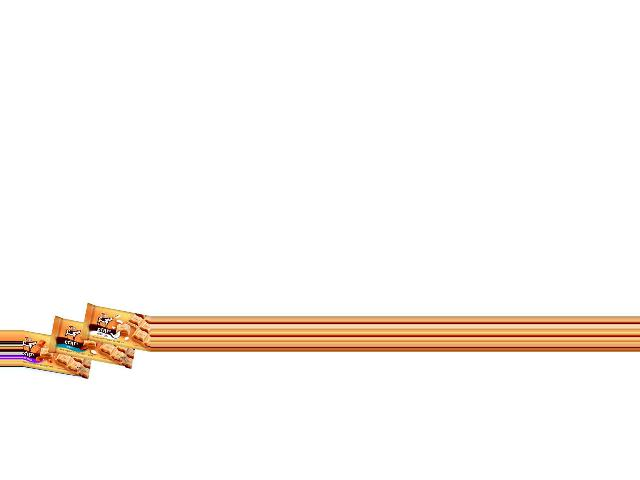chocolate: (21, 329, 97, 374)
